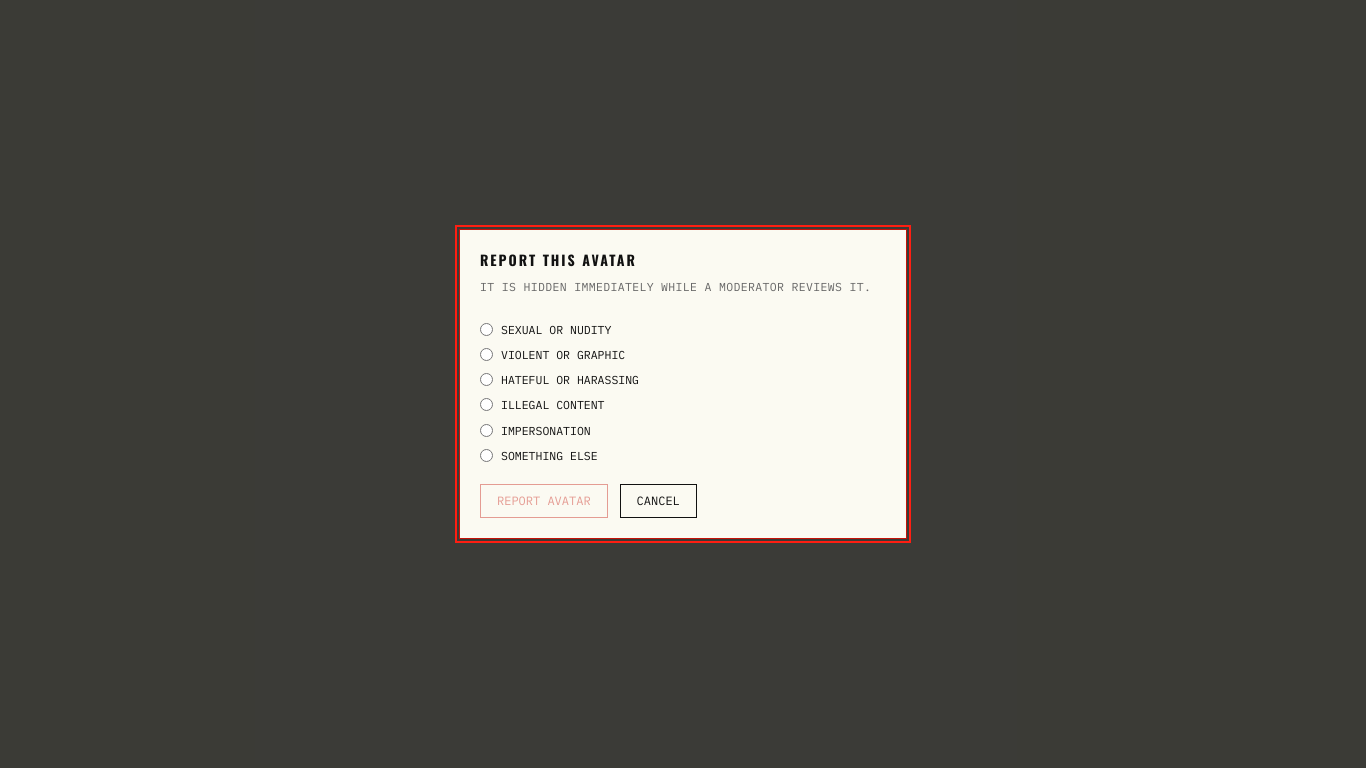
Test: ReportDialog › says a moderator already allowed the image, and does not invite a retry
The width and height of the screenshot is (1366, 768).
Click the radio button labelled "Hateful or harassing": (486, 380) [480,373,493,386]
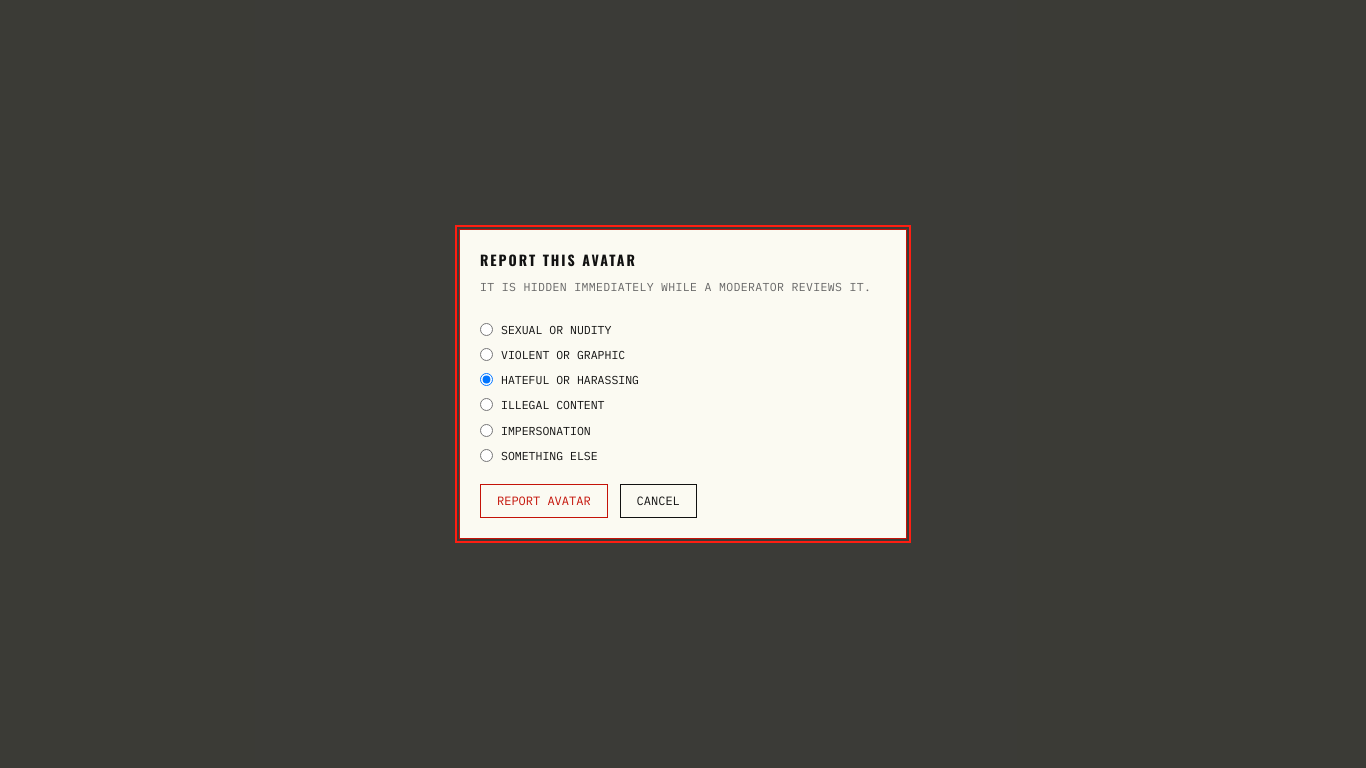
Click the button "Report avatar": (544, 501) [480,484,608,518]
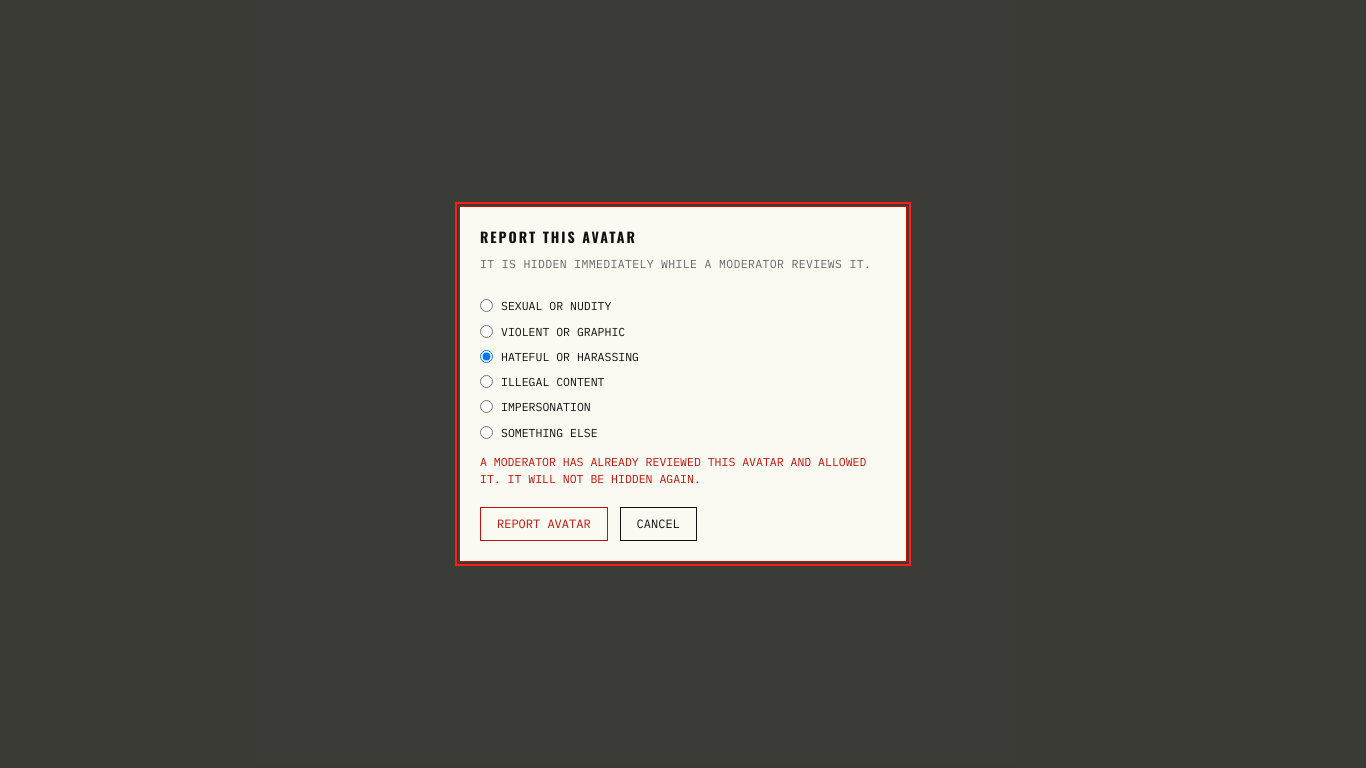
Expected: the message shows "moderator", [480,454,866,486]
